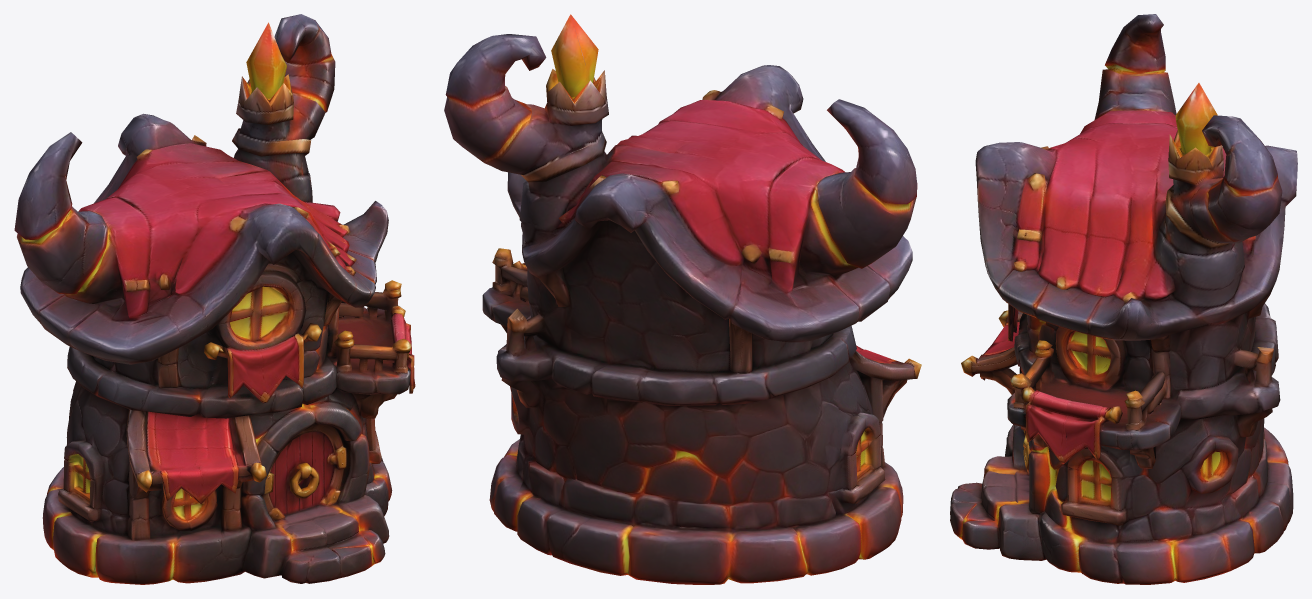
Rendered from Town_Horns_HouseC_fixed.glb.
3 renders of one model, left to right at view 1: azimuth 30°, elevation 25°; view 2: azimuth 150°, elevation 25°; view 3: azimuth 270°, elevation 25°, orthographic. The views are drawn at different scales.
Visible parts, largest first — view 1: tripo_node_50a63f0f-78c7-4fdb-8f09-82de743c7f4e; view 2: tripo_node_50a63f0f-78c7-4fdb-8f09-82de743c7f4e; view 3: tripo_node_50a63f0f-78c7-4fdb-8f09-82de743c7f4e.
Boxes of the visible parts, x1=… form: tripo_node_50a63f0f-78c7-4fdb-8f09-82de743c7f4e: x1=14, y1=14, x2=415, y2=584; tripo_node_50a63f0f-78c7-4fdb-8f09-82de743c7f4e: x1=444, y1=14, x2=921, y2=584; tripo_node_50a63f0f-78c7-4fdb-8f09-82de743c7f4e: x1=950, y1=14, x2=1297, y2=584.
Size of the model in its own units: 0.8708 by 0.9883 by 0.6722.
1 material, 1 textured.
